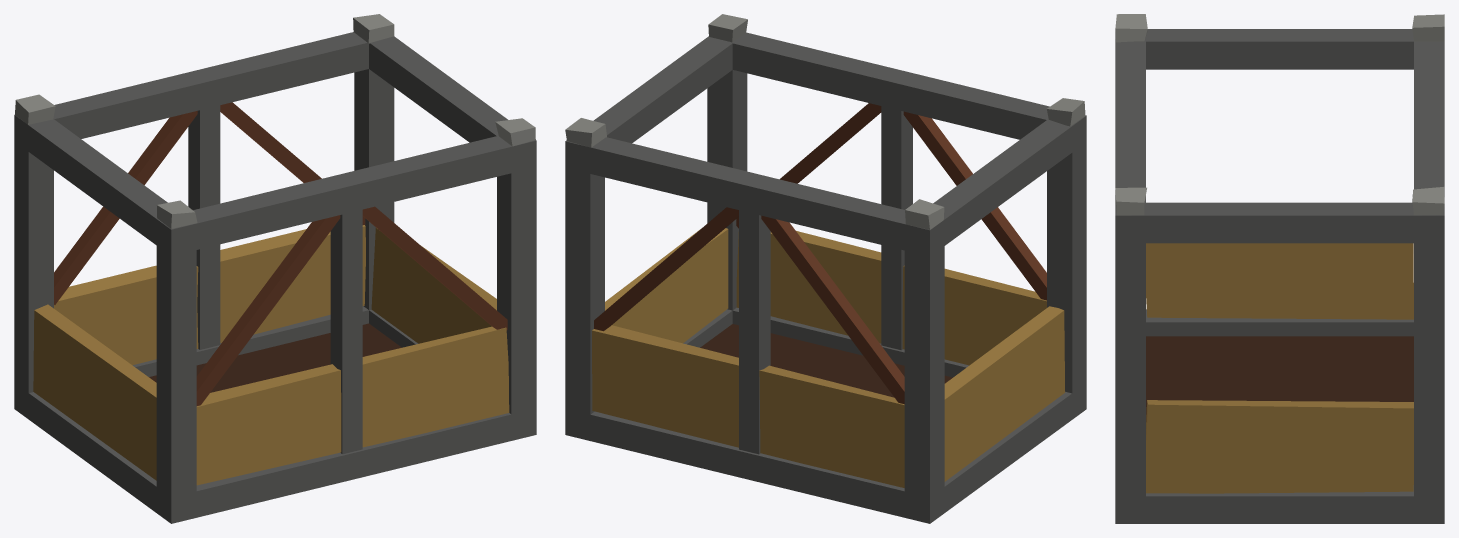
File: cargo_hauling_rack.glb
The picture shows the model from 3 angles, left to right: view 1: azimuth 30°, elevation 25°; view 2: azimuth 150°, elevation 25°; view 3: azimuth 270°, elevation 25°; orthographic projection. The views are drawn at different scales.
Visible parts, largest first — view 1: cargo_hauling_rack; view 2: cargo_hauling_rack; view 3: cargo_hauling_rack.
Part boxes in pixels (x1,y1,x2,y2): cargo_hauling_rack: (14, 14, 536, 523); cargo_hauling_rack: (565, 14, 1086, 523); cargo_hauling_rack: (1115, 14, 1444, 523).
Size of the model in its own units: 1.3 by 1.05 by 0.968.
